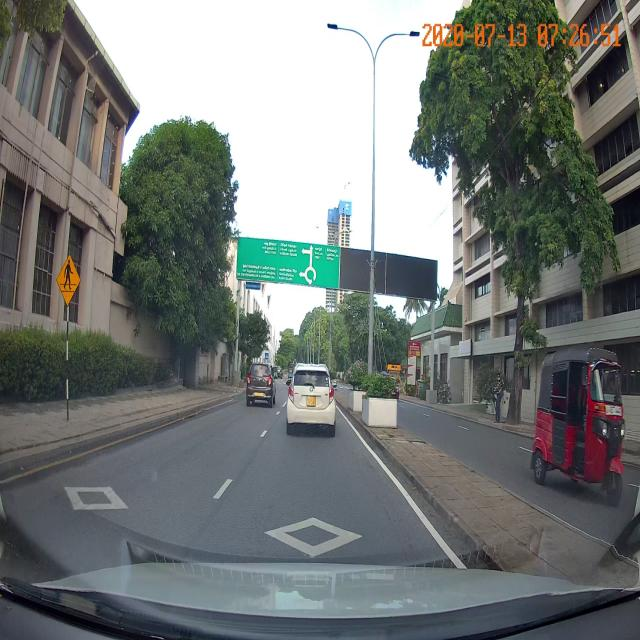Romb: (259, 513, 369, 561), (59, 481, 134, 513)
